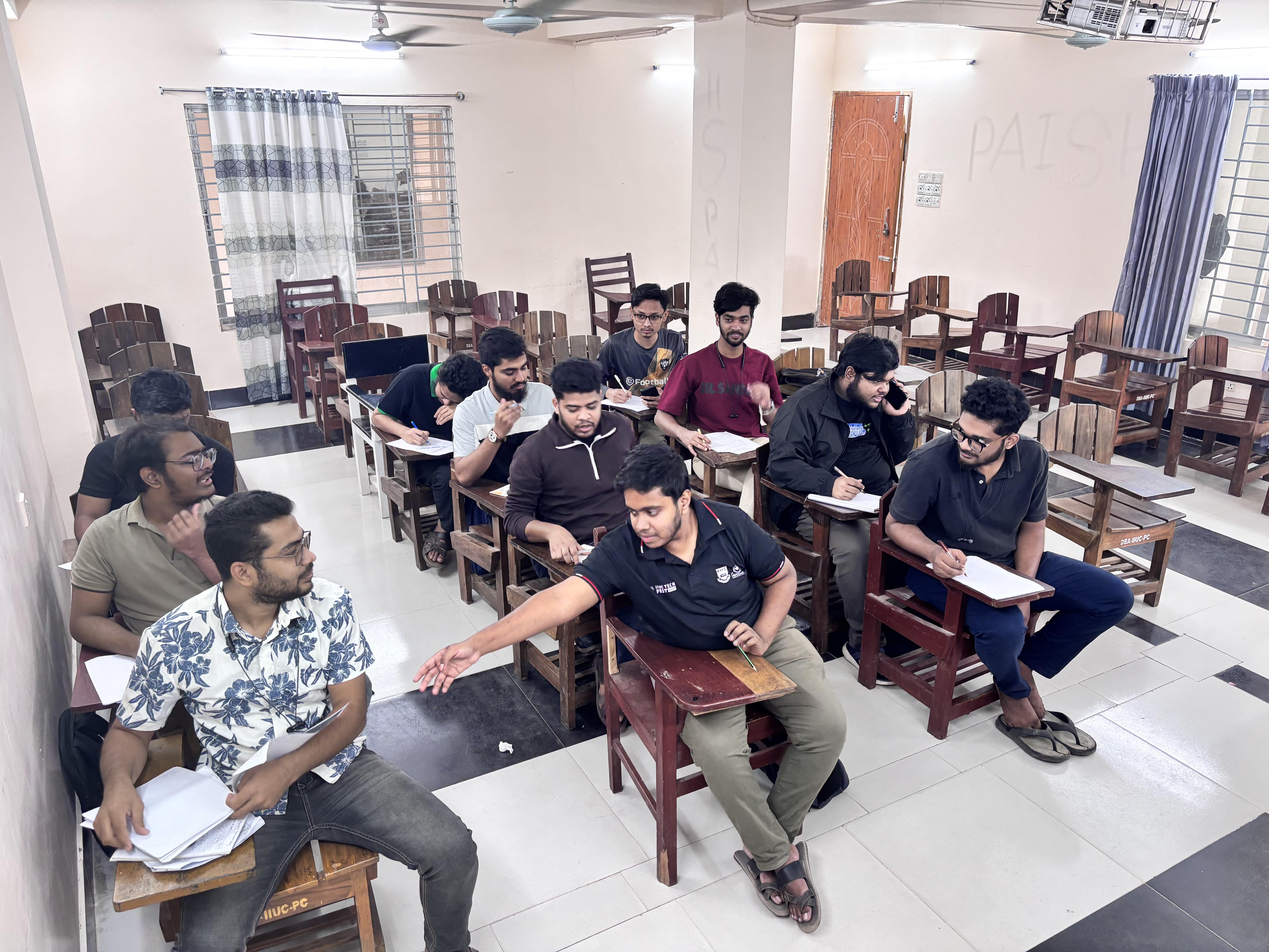no_cheating: (450, 321, 547, 482), (371, 350, 468, 464)
side_talking: (62, 525, 394, 884), (59, 420, 214, 630)
suspicious_moving: (413, 469, 800, 755), (883, 389, 1128, 630), (679, 282, 785, 467)
using_phone: (765, 338, 916, 519), (574, 282, 700, 412)
